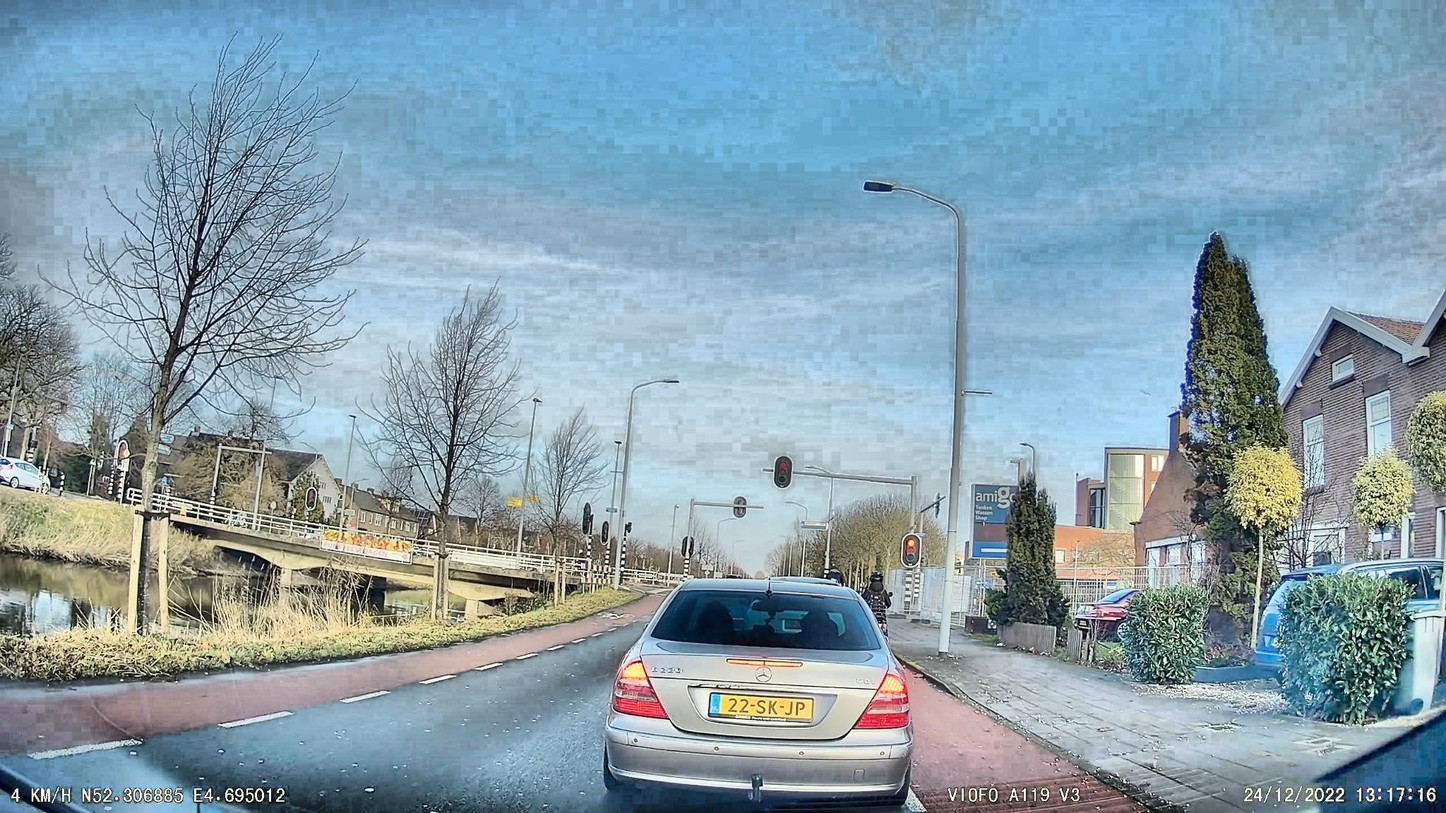Roads: (0, 615, 652, 813), (899, 664, 1143, 813)
